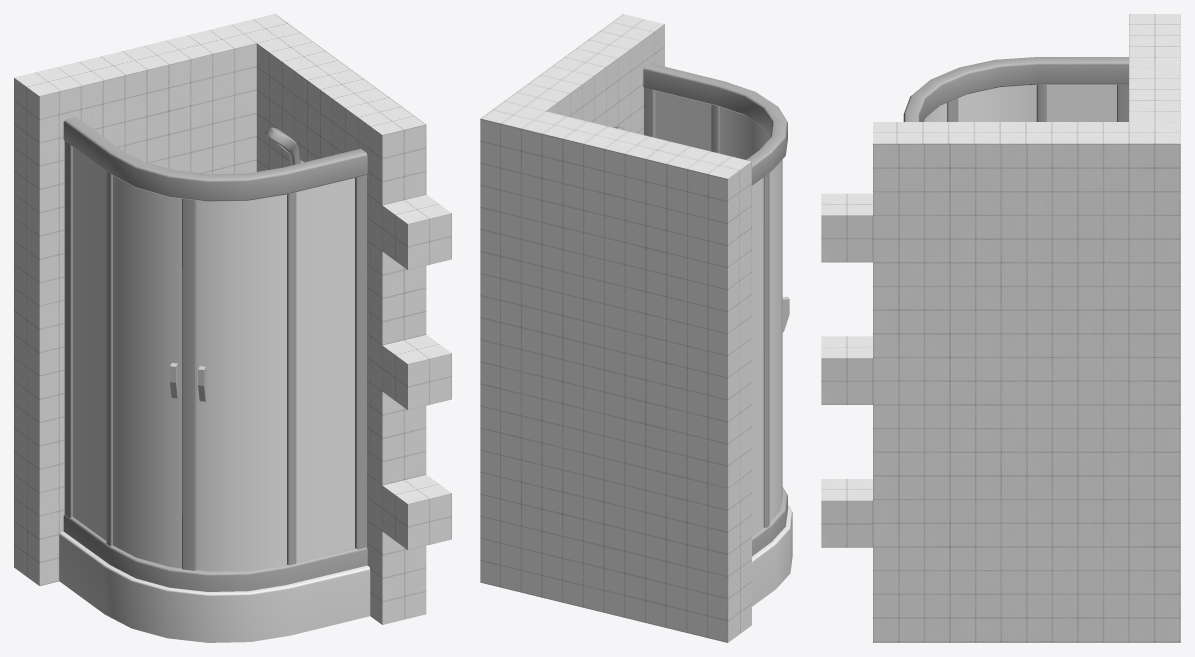
File: bathroom_026.fbx
3 renders of one model, left to right at view 1: azimuth 30°, elevation 25°; view 2: azimuth 150°, elevation 25°; view 3: azimuth 270°, elevation 25°, orthographic. The views are drawn at different scales.
Parts seen in each view (by area): view 1: bathroom_026; view 2: bathroom_026; view 3: bathroom_026.
Boxes of the visible parts, x1,y1,x2,y2 form: bathroom_026: (14,14,451,642); bathroom_026: (480,14,792,642); bathroom_026: (821,14,1180,642).
Bounding box in the file's own units: 139 × 163 × 249.
